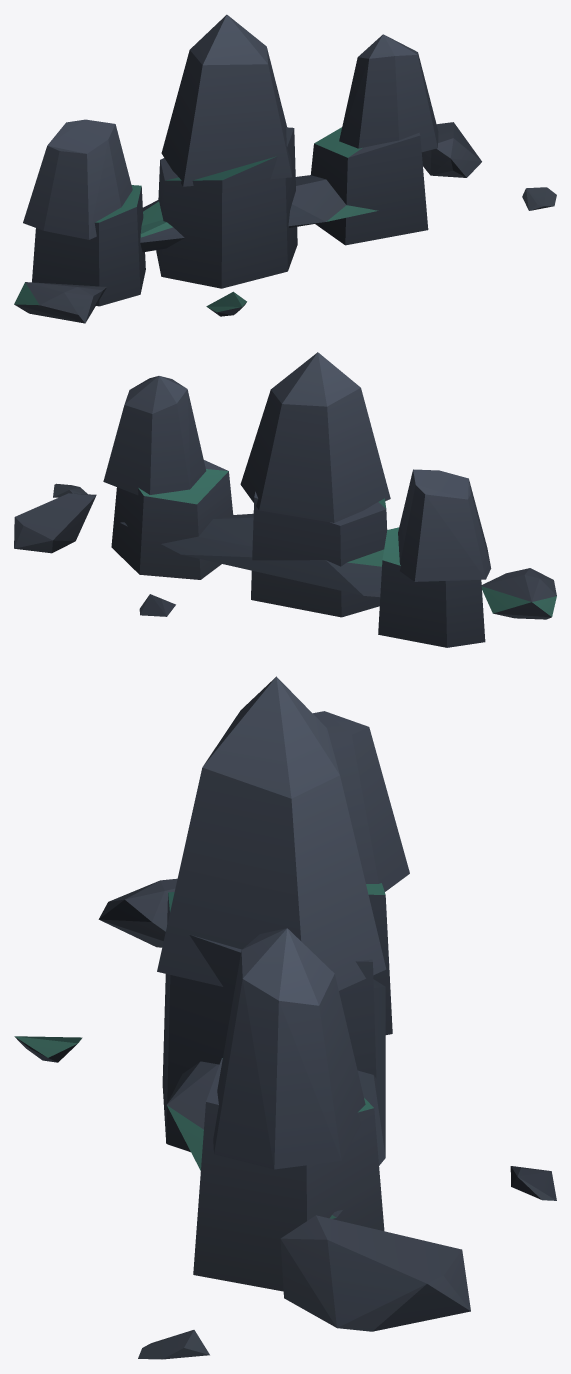
File: rock_b.glb
3 views of the same model, one above another, from view 1: azimuth 30°, elevation 25°; view 2: azimuth 150°, elevation 25°; view 3: azimuth 270°, elevation 25° (orthographic). The views are drawn at different scales.
Visible parts, largest first — view 1: rock_b; view 2: rock_b; view 3: rock_b.
Part boxes in pixels (x1,y1,x2,y2): rock_b: (14, 14, 556, 323); rock_b: (14, 352, 556, 647); rock_b: (14, 676, 556, 1359).
Bounding box in the file's own units: 3.85 × 1.7 × 1.9.
Materials: 1 (1 with a texture image).
